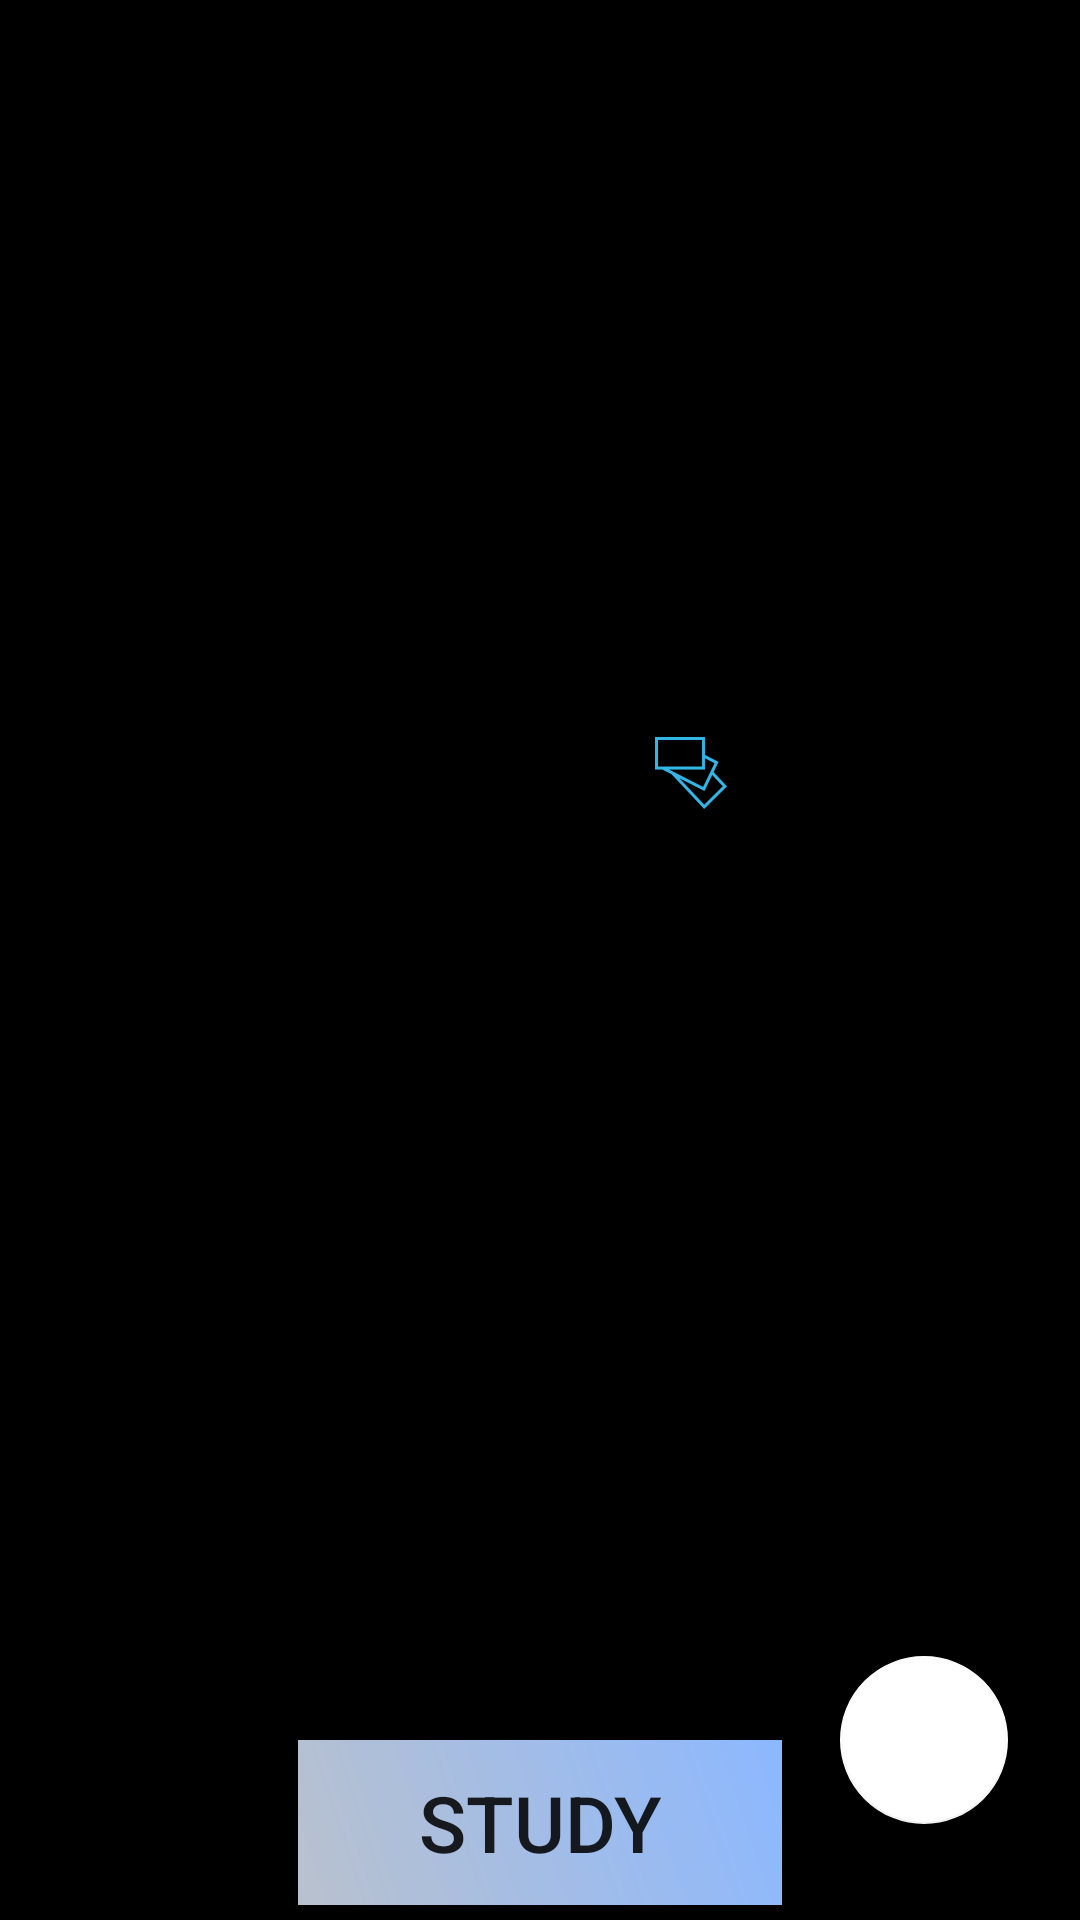

Icons on this 1080x1920 Android screen, each with the point to tap as point (x, y):
cards: point (691, 773)
